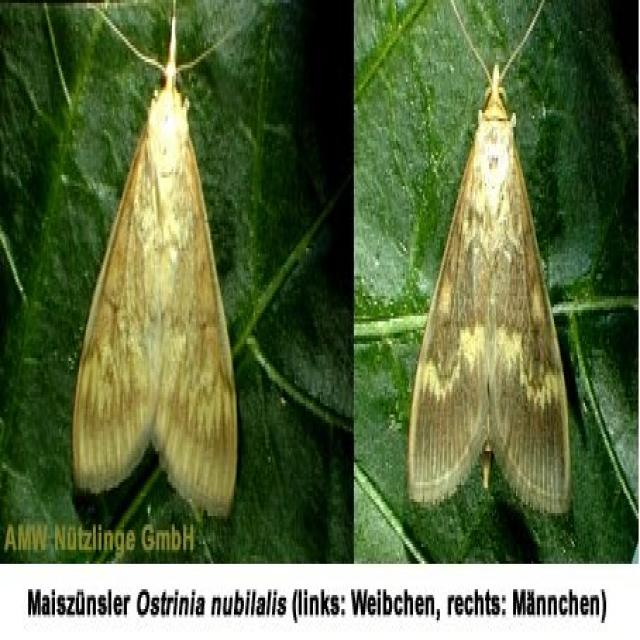cornborer-Adult-: (63, 14, 248, 522), (408, 37, 579, 533)
